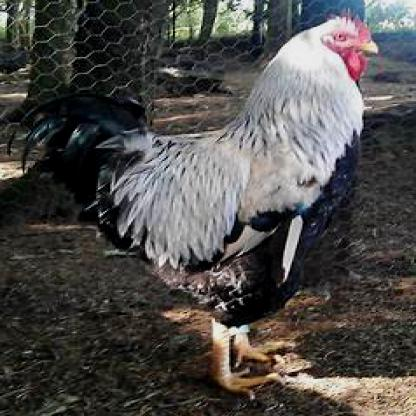chicken: (3, 9, 378, 402)
